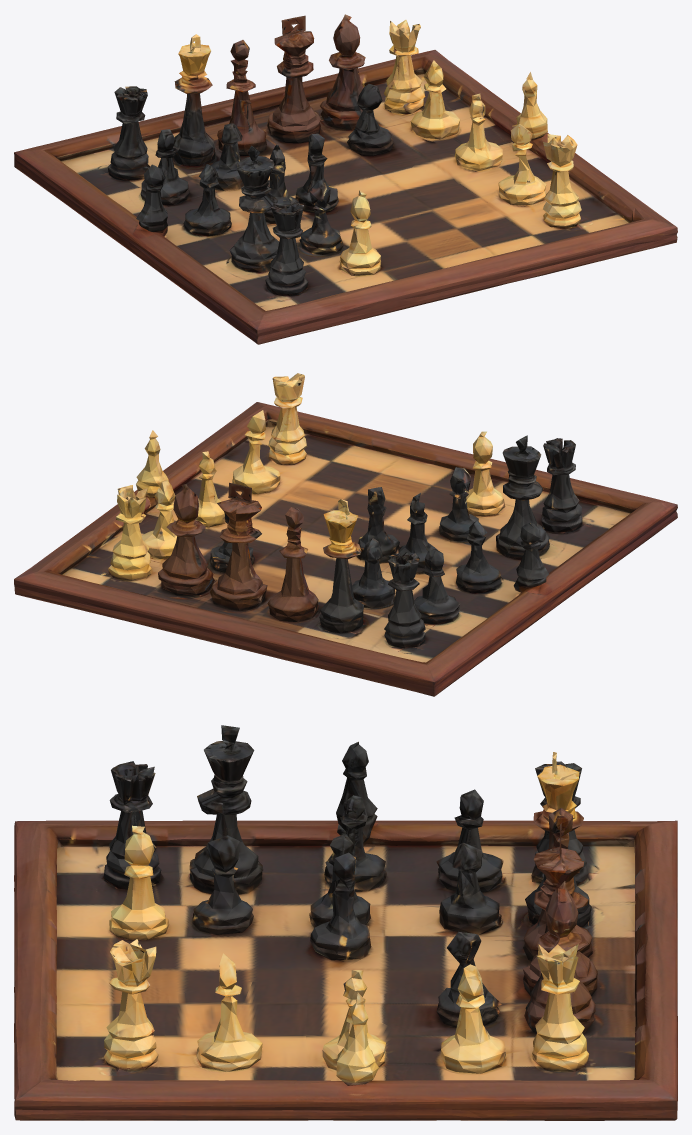
The model's file is 체스_0613163500_texture.fbx.
The picture shows the model from 3 angles, top to bottom: view 1: azimuth 30°, elevation 25°; view 2: azimuth 150°, elevation 25°; view 3: azimuth 270°, elevation 25°; orthographic projection. The views are drawn at different scales.
Parts seen in each view (by area): view 1: temp; view 2: temp; view 3: temp.
Part boxes in pixels (x1,y1,x2,y2): temp: (14,14,677,344); temp: (14,373,677,696); temp: (14,725,677,1120).
Size of the model in its own units: 200 by 61.14 by 200.
1 material, 1 textured.
